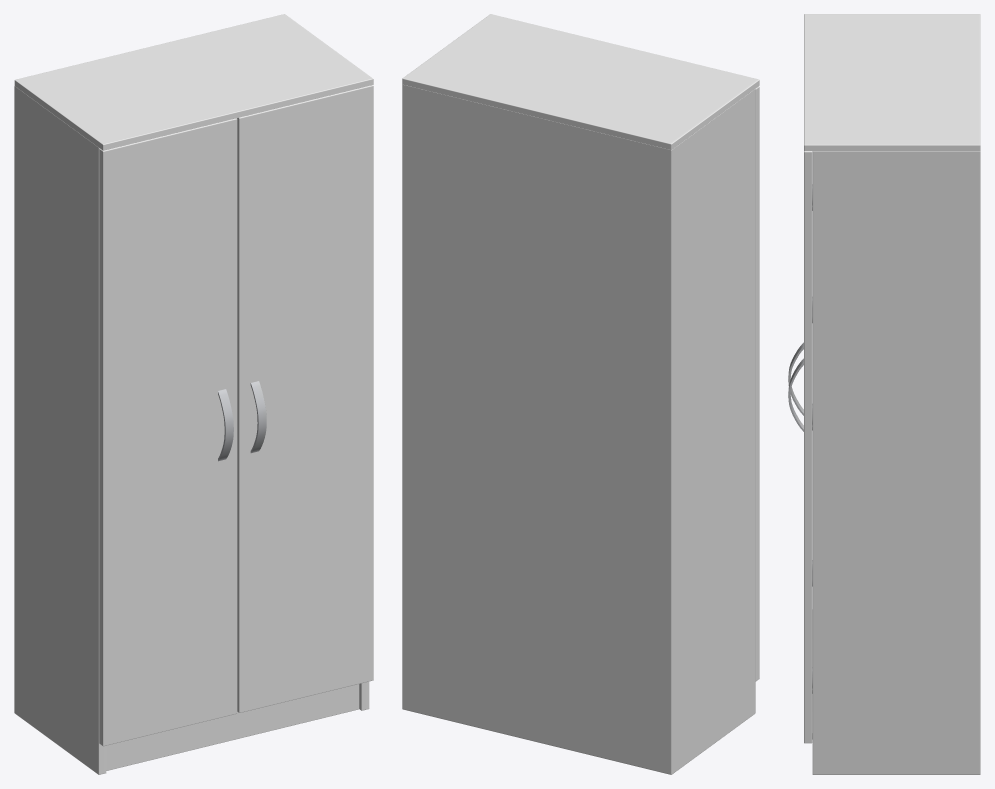
Rendered from abo-B079TYF1GK.glb.
The picture shows the model from 3 angles, left to right: view 1: azimuth 30°, elevation 25°; view 2: azimuth 150°, elevation 25°; view 3: azimuth 270°, elevation 25°; orthographic projection.
Size of the model in its own units: 0.76 by 1.7 by 0.47.
1 material, 1 textured.
